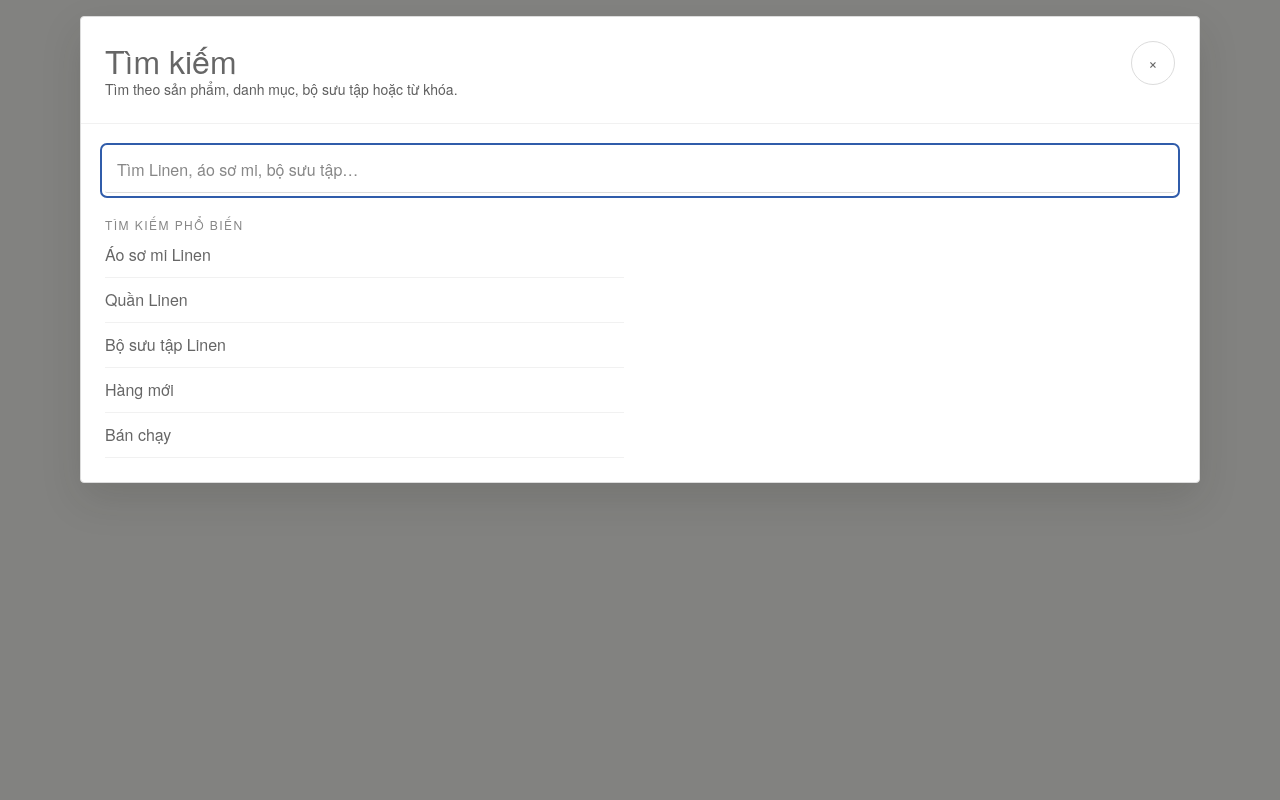
SearchOverlay › shows a directed empty state
Type "không-tồn-tại" into the dropdown named "Tìm kiếm sản phẩm và nội dung". click: (640, 171)
box: [105,148,1175,193]
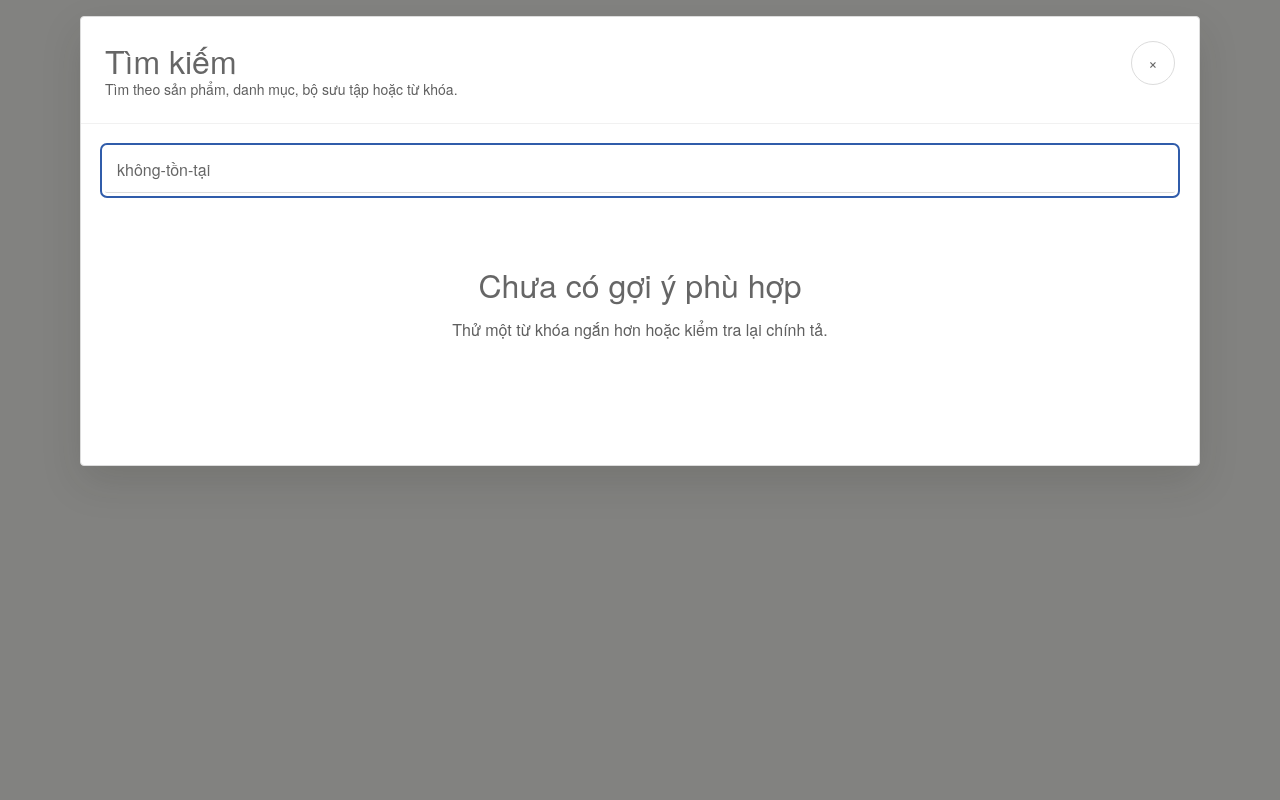
Now the heading "Chưa có gợi ý phù hợp" is shown, box [478,265,802,304]
